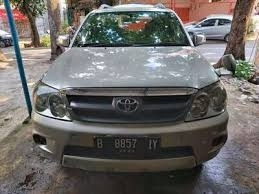plate: (93, 135, 161, 156)
